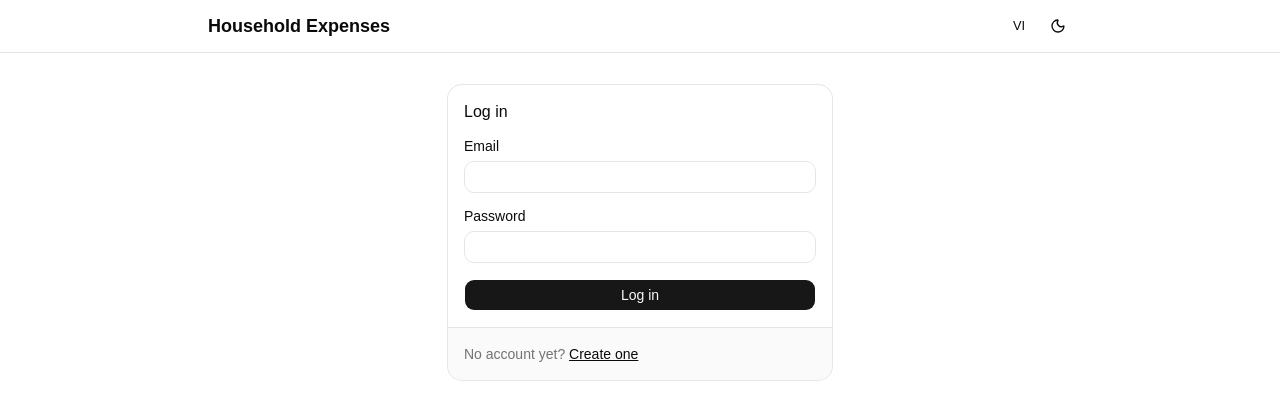
Scenario: language switch › translates the page at once and remembers the choice
Expected: the heading "Log in" is shown, [464,103,508,120]
Step 1. Click the button with aria-label "VI, Tiếng Việt" → (1019, 26), box [1002,12,1036,40]
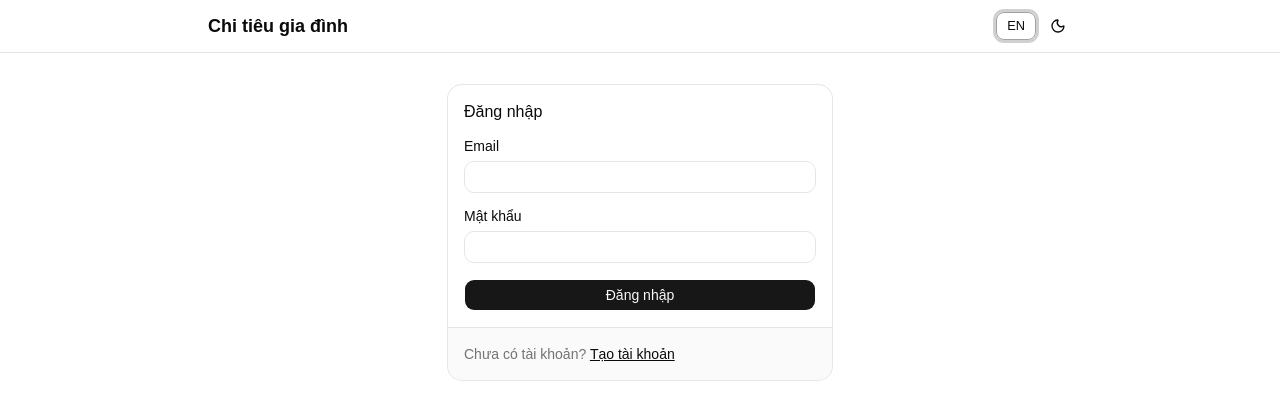
Expected: the password field labelled "Mật khẩu" is shown, [464,231,816,263]
Expected: the heading "Đăng nhập" is shown, [464,103,542,120]
Step 2. Click the button with aria-label "EN, English" → (1016, 26), box [996,12,1036,40]
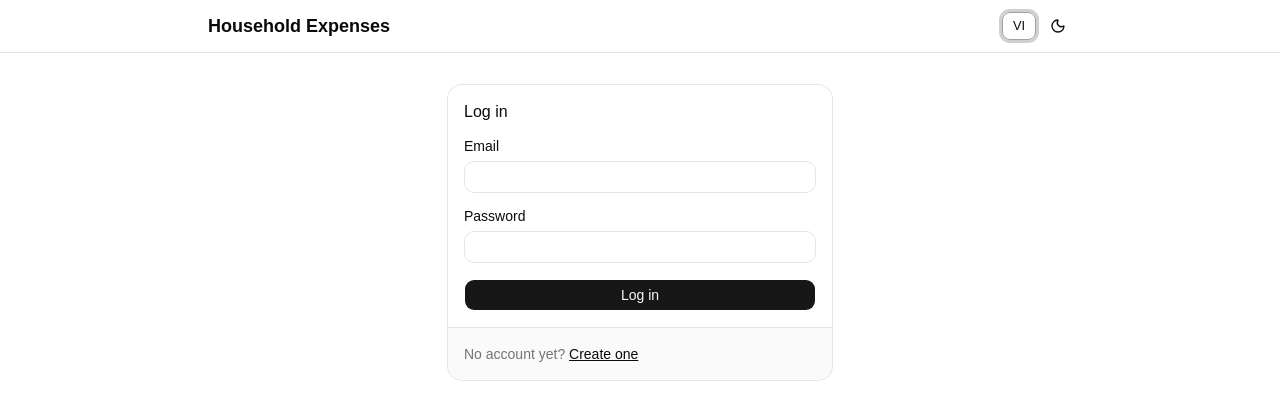
Expected: the heading "Log in" is shown, [464,103,508,120]
